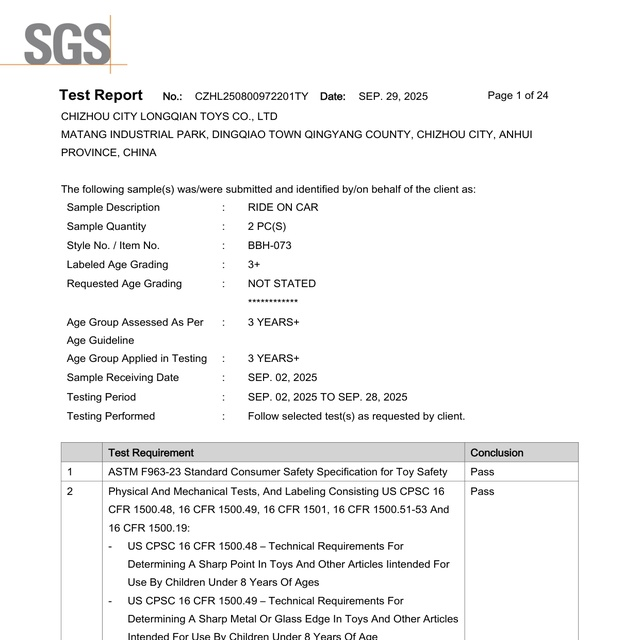sgs: (24, 22, 112, 65)
